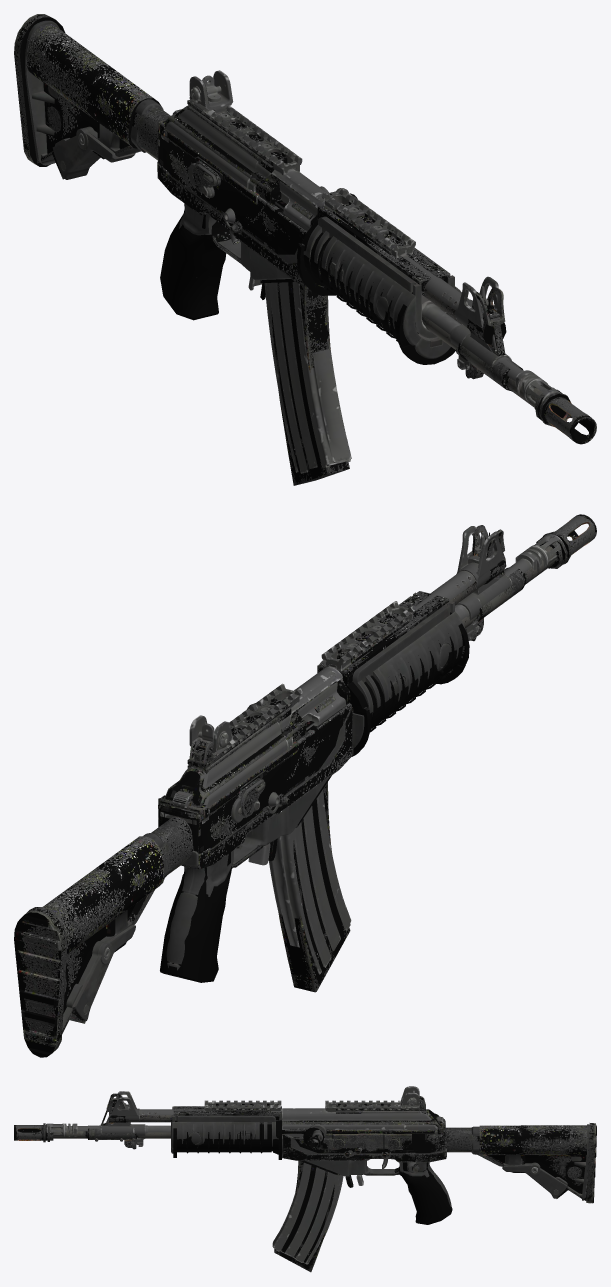
The picture shows the model from 3 angles, top to bottom: view 1: azimuth 30°, elevation 25°; view 2: azimuth 150°, elevation 25°; view 3: azimuth 270°, elevation 25°; orthographic projection. The views are drawn at different scales.
Visible parts, largest first — view 1: weapons\models\galilar\weapon_rif_galilar.vmdl_c.body_legacy, weapons\models\galilar\weapon_rif_galilar.vmdl_c.body_hd; view 2: weapons\models\galilar\weapon_rif_galilar.vmdl_c.body_legacy, weapons\models\galilar\weapon_rif_galilar.vmdl_c.body_hd; view 3: weapons\models\galilar\weapon_rif_galilar.vmdl_c.body_legacy, weapons\models\galilar\weapon_rif_galilar.vmdl_c.body_hd.
Boxes of the visible parts, x1,y1,x2,y2 form: weapons\models\galilar\weapon_rif_galilar.vmdl_c.body_legacy: [14, 14, 596, 485]; weapons\models\galilar\weapon_rif_galilar.vmdl_c.body_hd: [25, 20, 560, 473]; weapons\models\galilar\weapon_rif_galilar.vmdl_c.body_legacy: [14, 514, 596, 1057]; weapons\models\galilar\weapon_rif_galilar.vmdl_c.body_hd: [51, 526, 562, 1033]; weapons\models\galilar\weapon_rif_galilar.vmdl_c.body_legacy: [14, 1093, 596, 1272]; weapons\models\galilar\weapon_rif_galilar.vmdl_c.body_hd: [46, 1086, 589, 1264].
Bounding box in the file's own units: 0.0771 × 0.285 × 0.8375.
2 materials, 2 textured.
